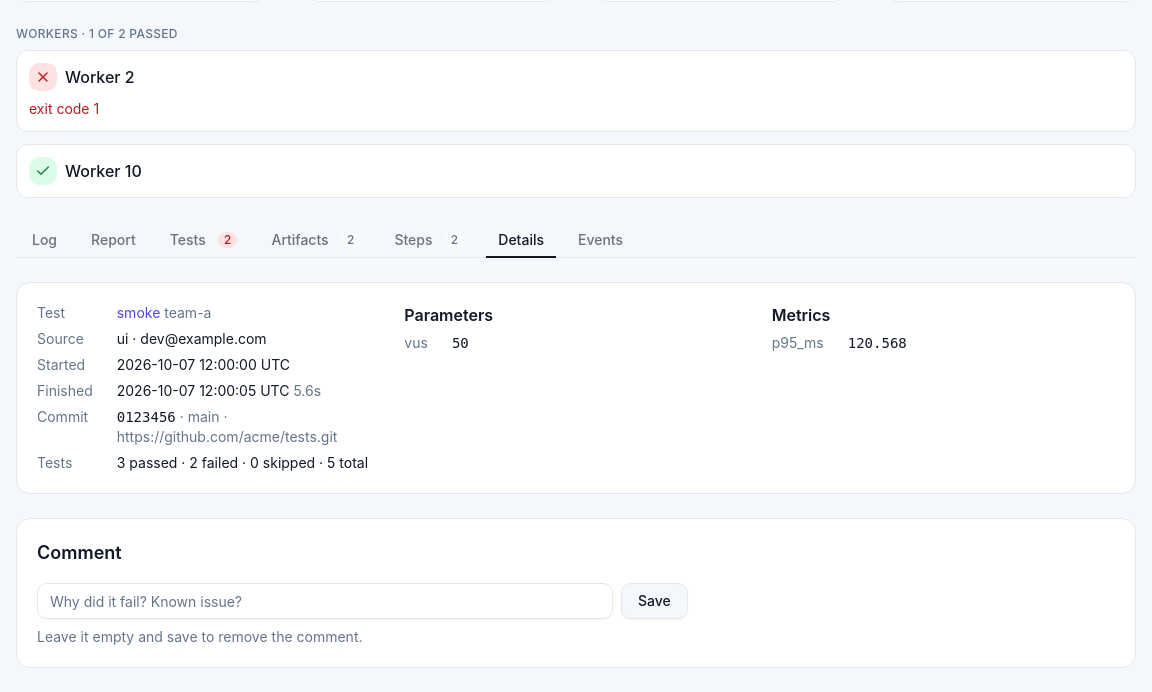
Test: run page › lets developers comment a finished run and remove it again
(page scrolled)
Type "known flake" into the field named "Comment text" at (325, 601), box 37,583 -> 613,619
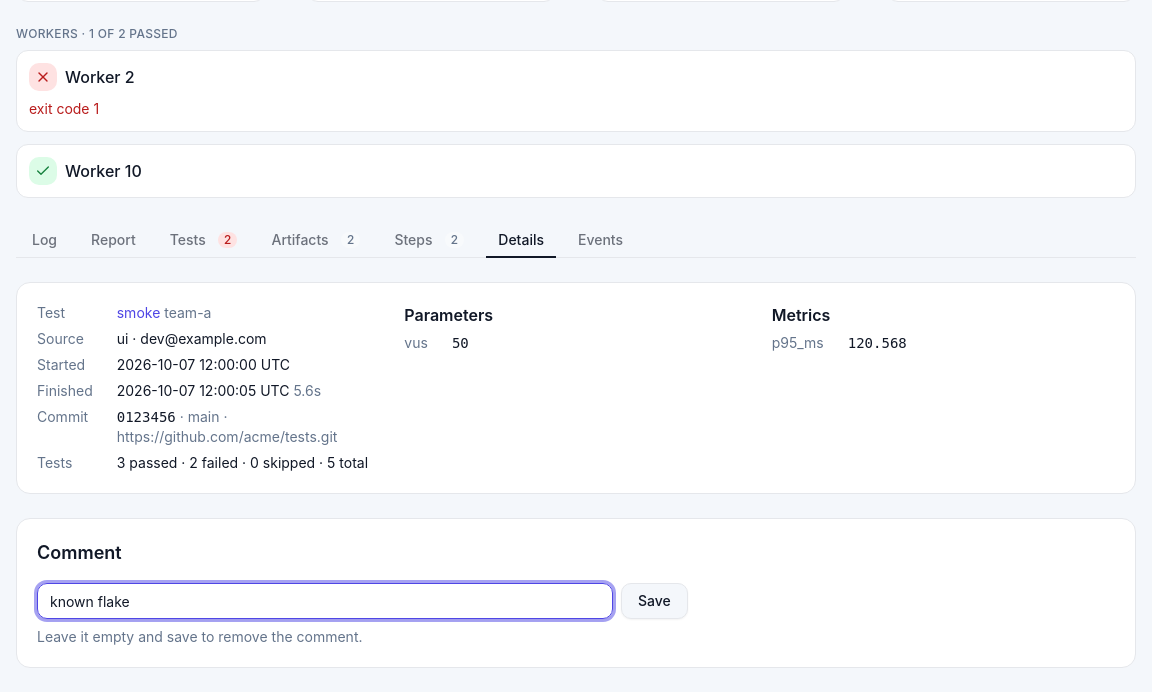
Click the button "Save" at (654, 601), box 621,583 -> 688,619
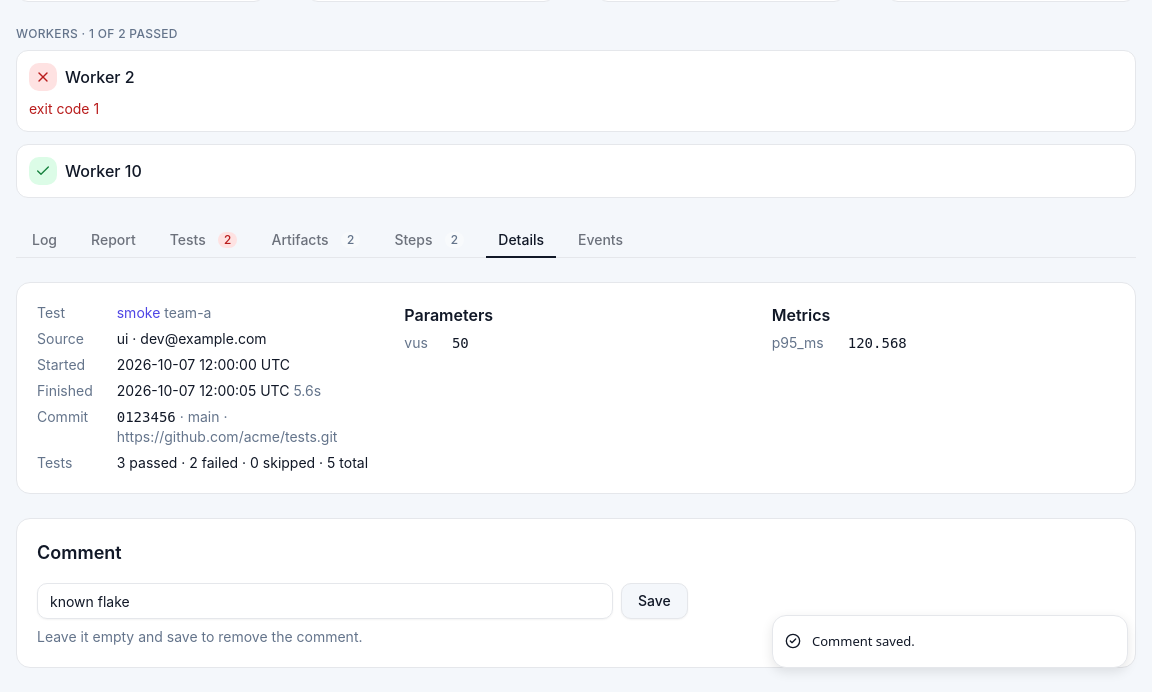
Expected: the text "Comment saved." is shown, 812,632 -> 915,651
Clear the field named "Comment text" at (325, 601), box 37,583 -> 613,619
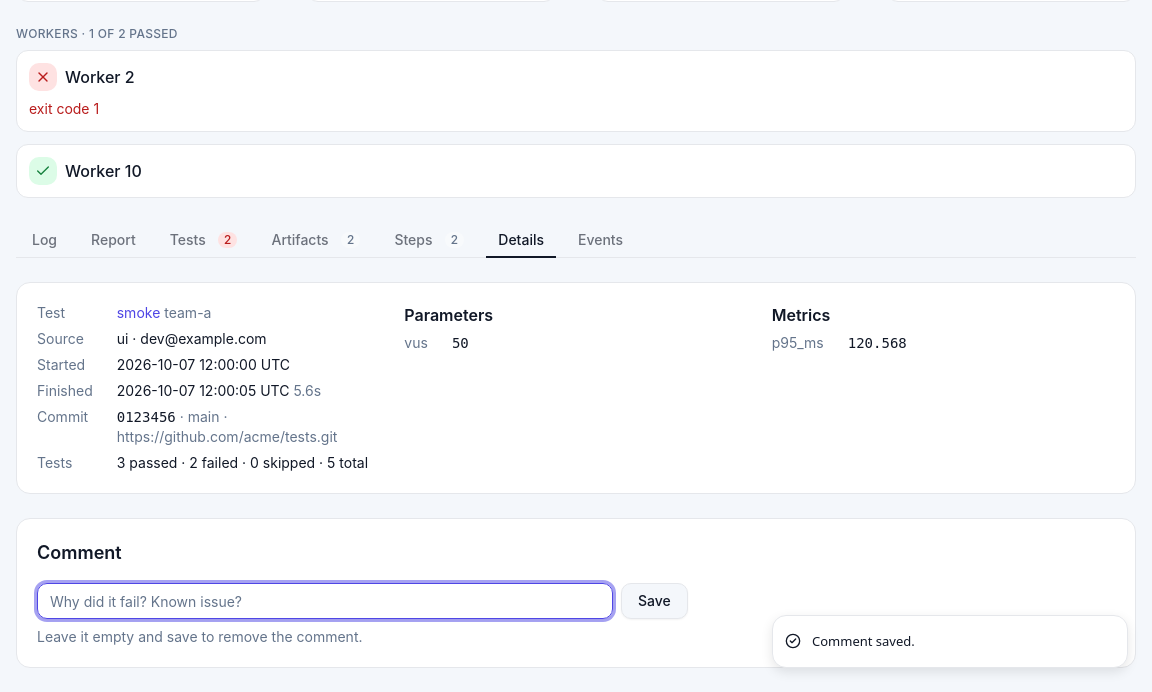
Click the button "Save" at (654, 601), box 621,583 -> 688,619
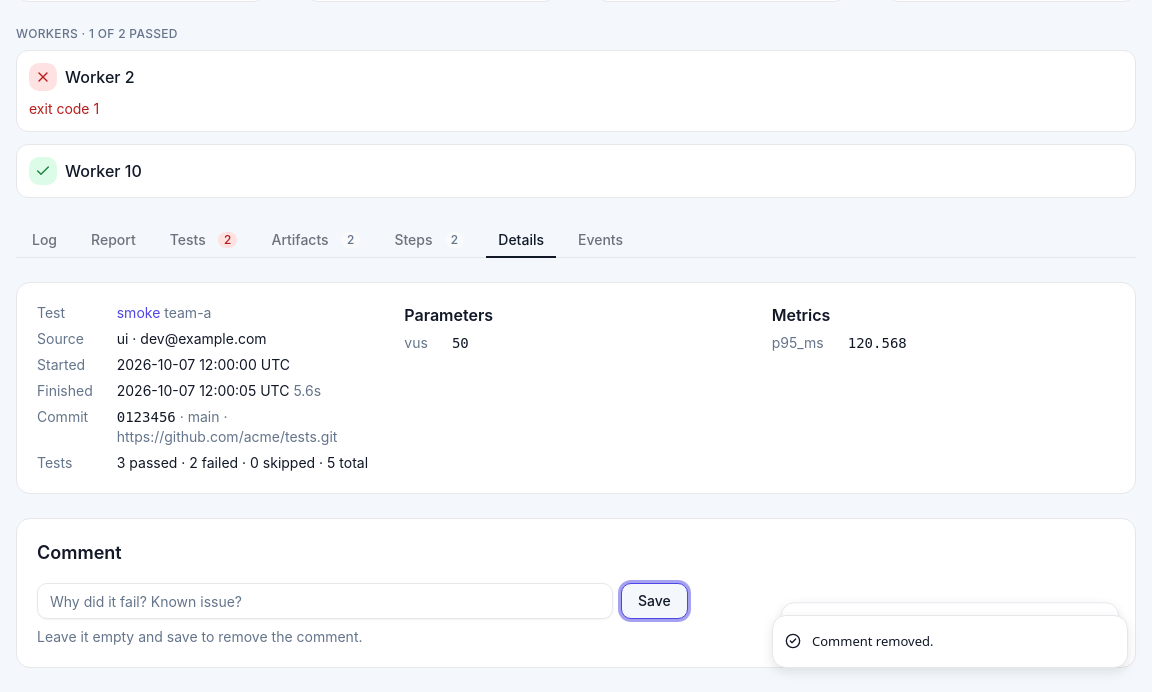
Expected: the text "Comment removed." is shown, 812,632 -> 934,651
